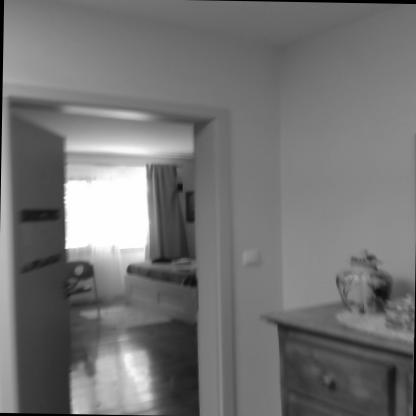open: (0, 75, 246, 410)
